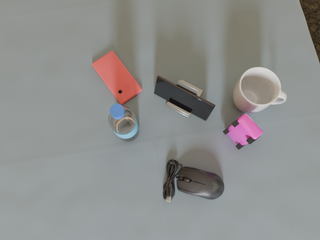bottle: (108, 104, 139, 141)
cup: (233, 67, 287, 113)
mouse: (163, 159, 224, 202)
phone: (92, 51, 142, 105), (154, 76, 215, 120)
toy_car: (223, 114, 263, 149)
